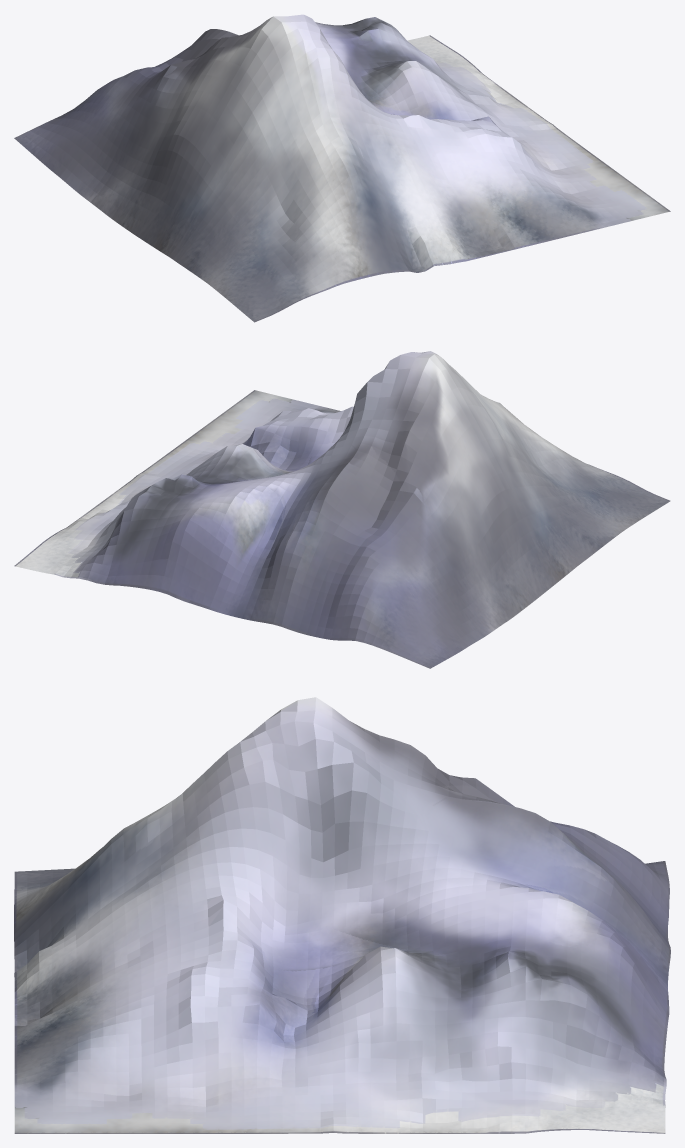
Rendered from mountain small.fbx.
3 renders of one model, top to bottom at view 1: azimuth 30°, elevation 25°; view 2: azimuth 150°, elevation 25°; view 3: azimuth 270°, elevation 25°, orthographic. The views are drawn at different scales.
Parts seen in each view (by area): view 1: Plane.011; view 2: Plane.011; view 3: Plane.011.
Part boxes in pixels (x1,y1,x2,y2): Plane.011: (14, 14, 670, 322); Plane.011: (14, 351, 670, 668); Plane.011: (14, 697, 670, 1133).
Size of the model in its own units: 4998 by 2312 by 5048.
